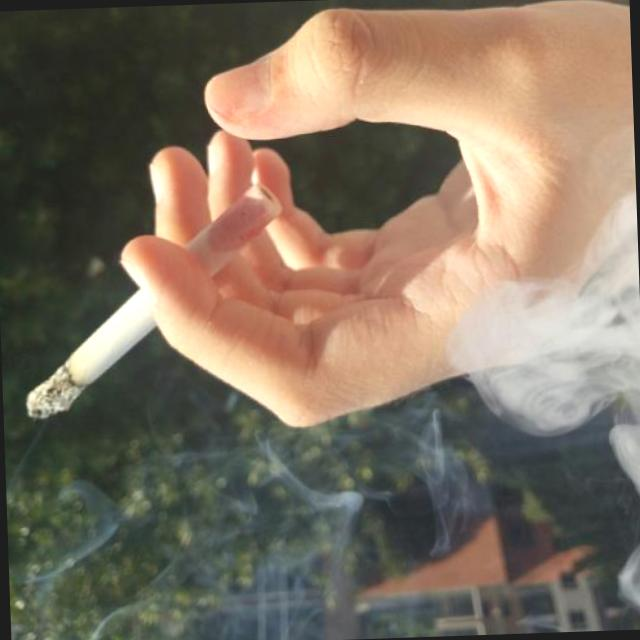cigarette: (15, 174, 291, 432)
